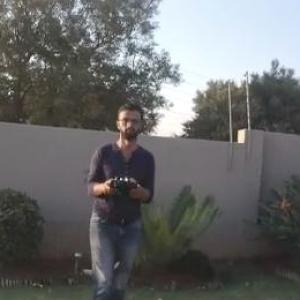follow: (81, 96, 160, 299)
